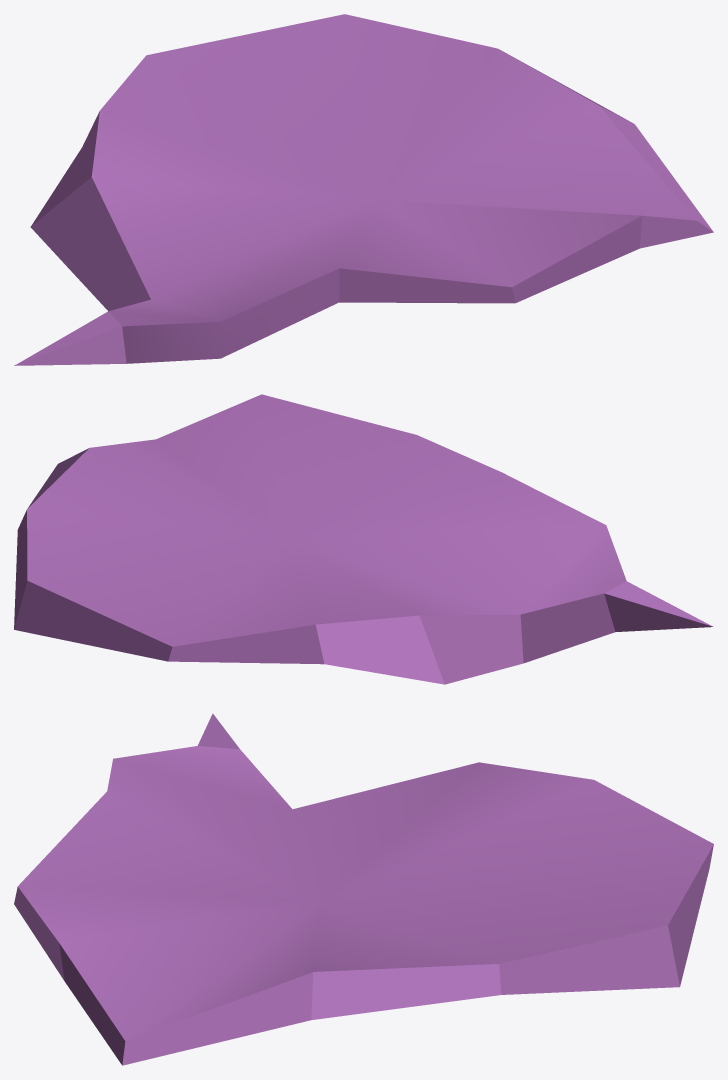
The model's file is stickers_02.fbx.
3 views of the same model, one above another, from view 1: azimuth 30°, elevation 25°; view 2: azimuth 150°, elevation 25°; view 3: azimuth 270°, elevation 25° (orthographic). The views are drawn at different scales.
Parts seen in each view (by area): view 1: pCylinder1; view 2: pCylinder1; view 3: pCylinder1.
Part boxes in pixels (x1,y1,x2,y2): pCylinder1: (14, 14, 713, 365); pCylinder1: (14, 394, 713, 684); pCylinder1: (14, 713, 713, 1065).
Size of the model in its own units: 2.9 by 0.5237 by 2.39.
